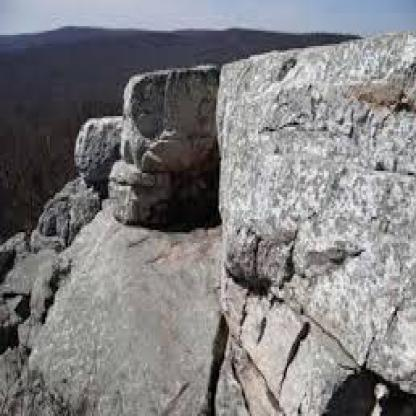Metamorphic_Quartize: (218, 31, 414, 392), (116, 63, 210, 146)
